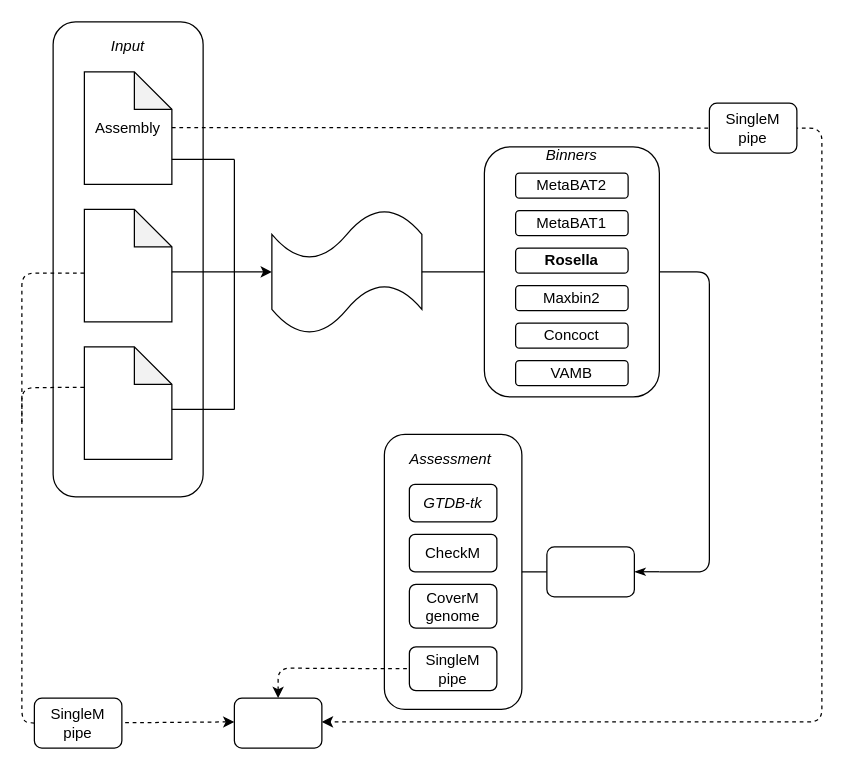
Some shapes in this 854 by 770 pixel diagram are drawn without their labels. The centre of each missing label's shape, as x and y in pixels:
CoverM contig: (346,271)
DASTools: (590,571)
Long reads: (127,402)
Short reads: (127,265)
SingleM appraise: (277,722)
